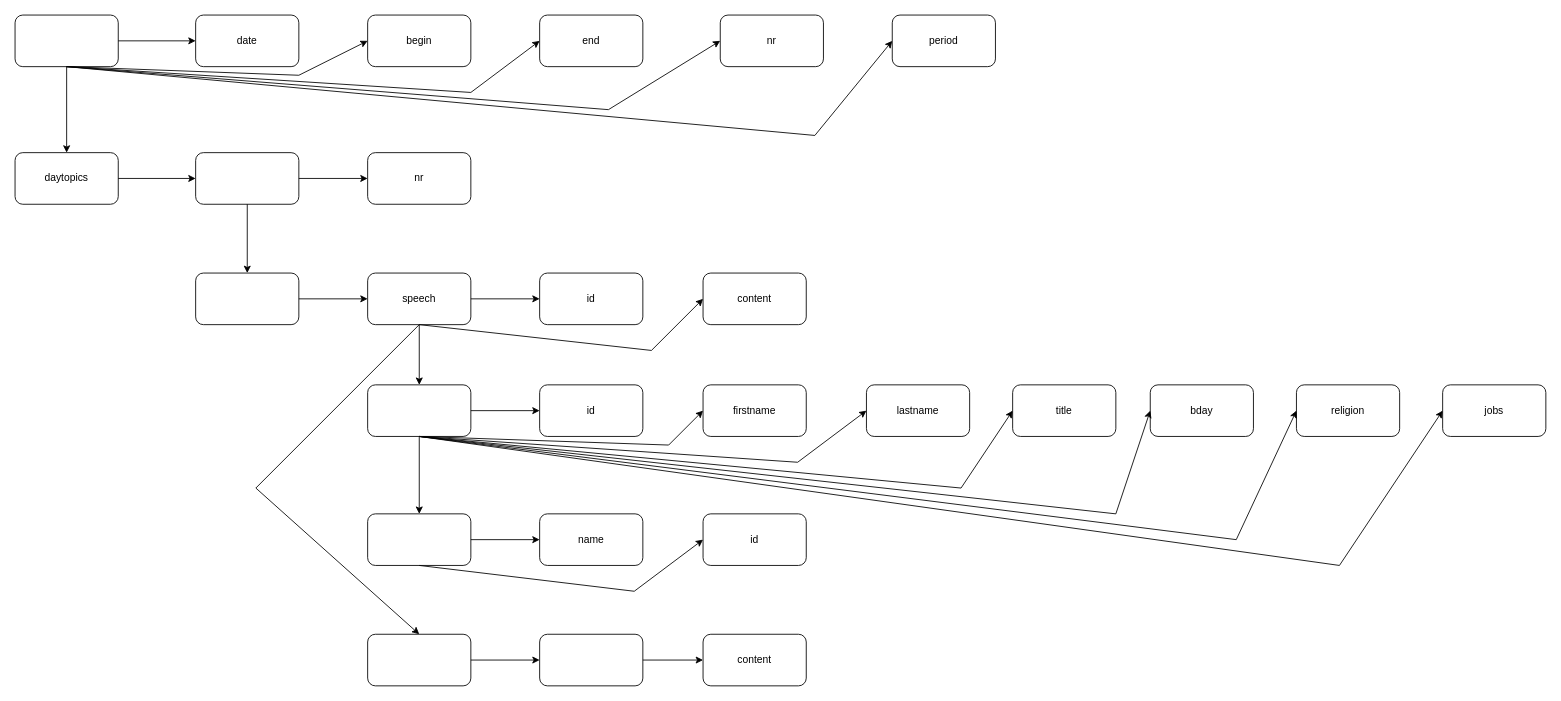
Some shapes in this 1561 by 701 pixel diagram are drawn without their labels. The centre of each missing label's shape, as x and y in pixels:
"comment" belongs at point 591,659.
"comments" belongs at point 419,659.
"daytopic" belongs at point 247,178.
"party" belongs at point 419,539.
"prot" belongs at point 66,40.
"speaker" belongs at point 419,410.
"speeches" belongs at point 247,298.
